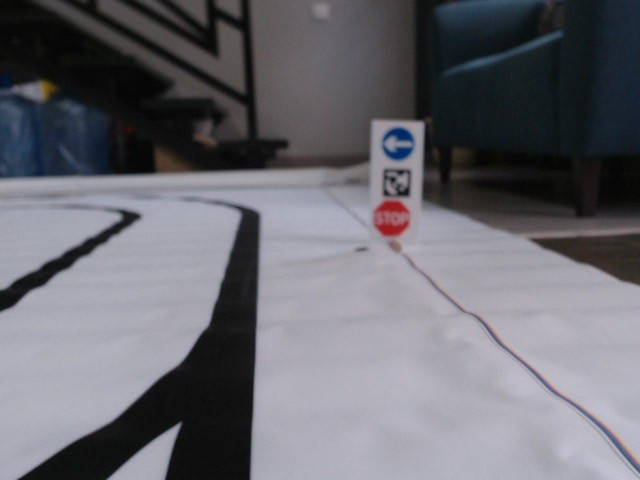Stop: (373, 200, 410, 236)
